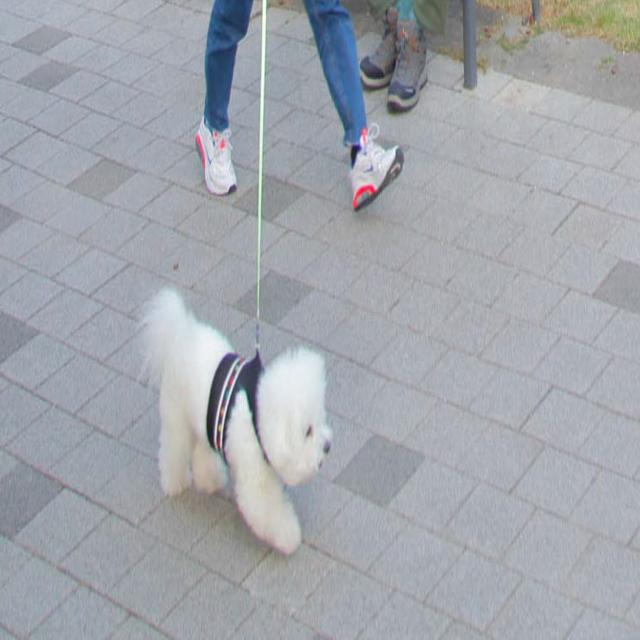Leashed_Dog: (132, 0, 333, 555)
